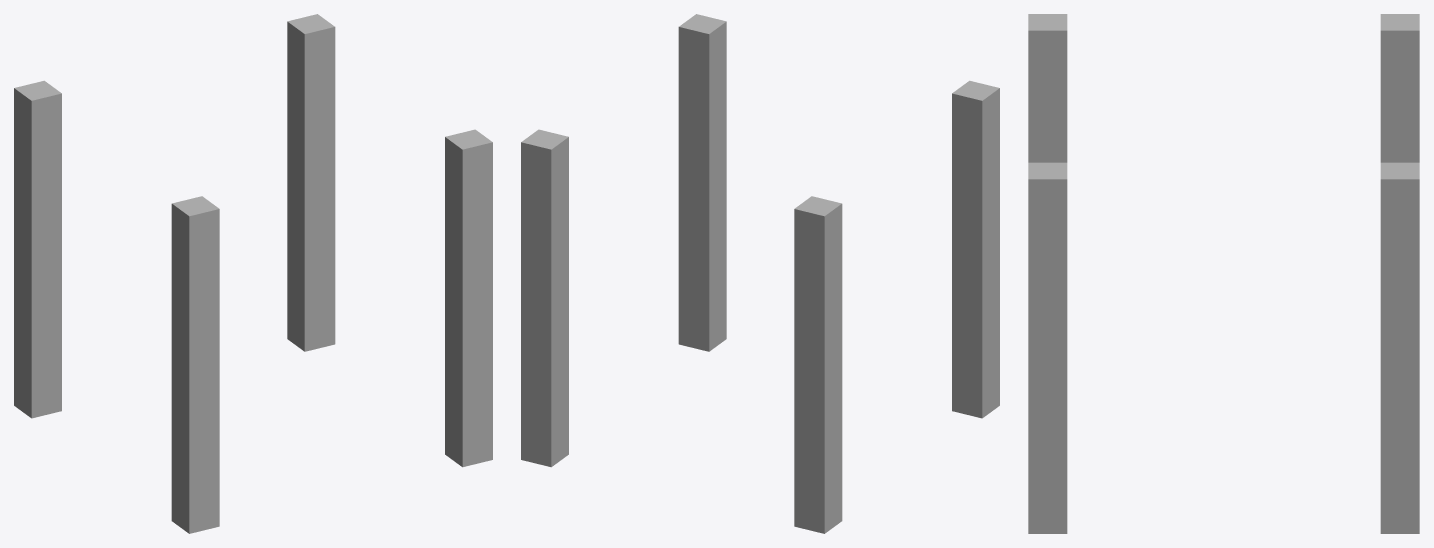
Rendered from CubeTower2.fbx.
3 renders of one model, left to right at view 1: azimuth 30°, elevation 25°; view 2: azimuth 150°, elevation 25°; view 3: azimuth 270°, elevation 25°, orthographic. The views are drawn at different scales.
Visible parts, largest first — view 1: polySurface1; view 2: polySurface1; view 3: polySurface1.
Boxes of the visible parts, box(x1,y1,x2,y2) form: polySurface1: box(14, 14, 492, 533); polySurface1: box(521, 14, 999, 533); polySurface1: box(1028, 14, 1419, 533).
Size of the model in its own units: 1 by 1 by 1.
1 material, 1 textured.
